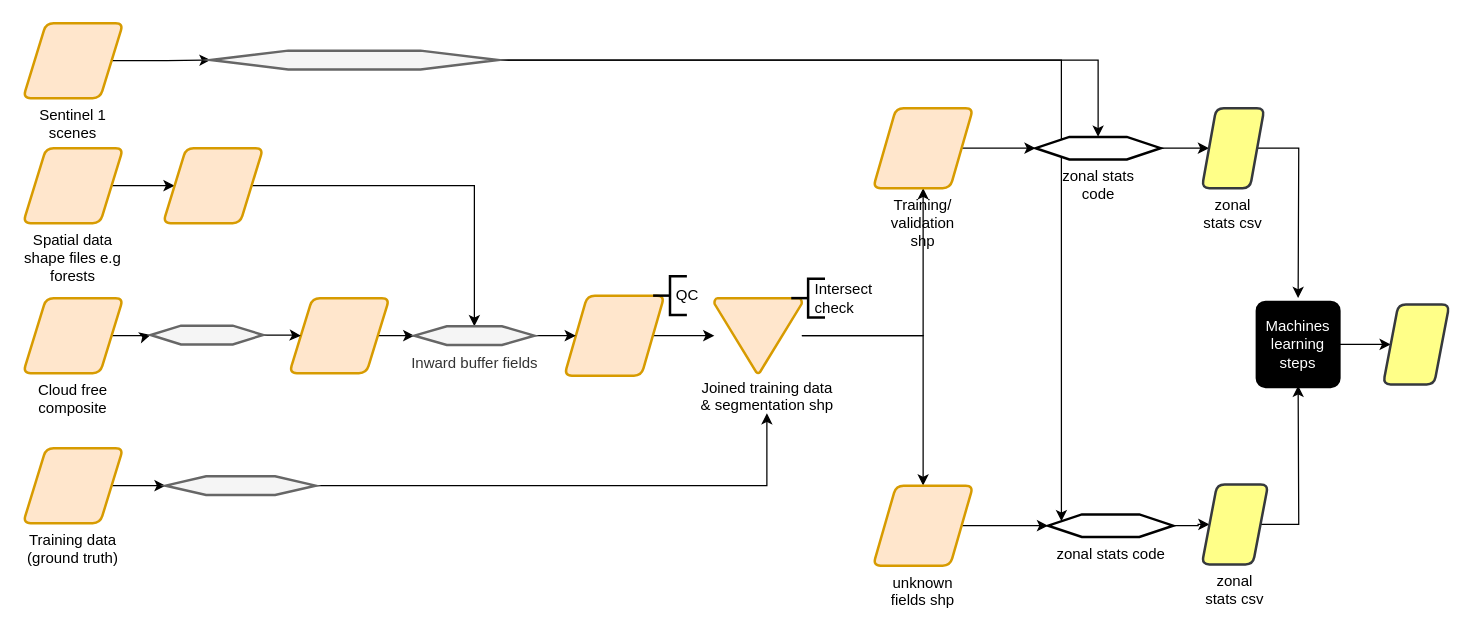
Some shapes in this 1471 by 631 pixel diagram are drawn without their labels. Here are the shapes that lost their labels. From the top down, the box of each, then its label:
(209, 49, 499, 70): Remove artefacts
(161, 146, 264, 224): Mask (shp for non-field areas)
(149, 324, 264, 345): Orfeo toolbox
(288, 296, 390, 374): Segmented field boundaries
(562, 294, 665, 376): Segmented fields excluding mask and buffered
(1381, 302, 1450, 385): results csv
(164, 474, 316, 496): Clean- remove duplicates flag single and mixed fields
